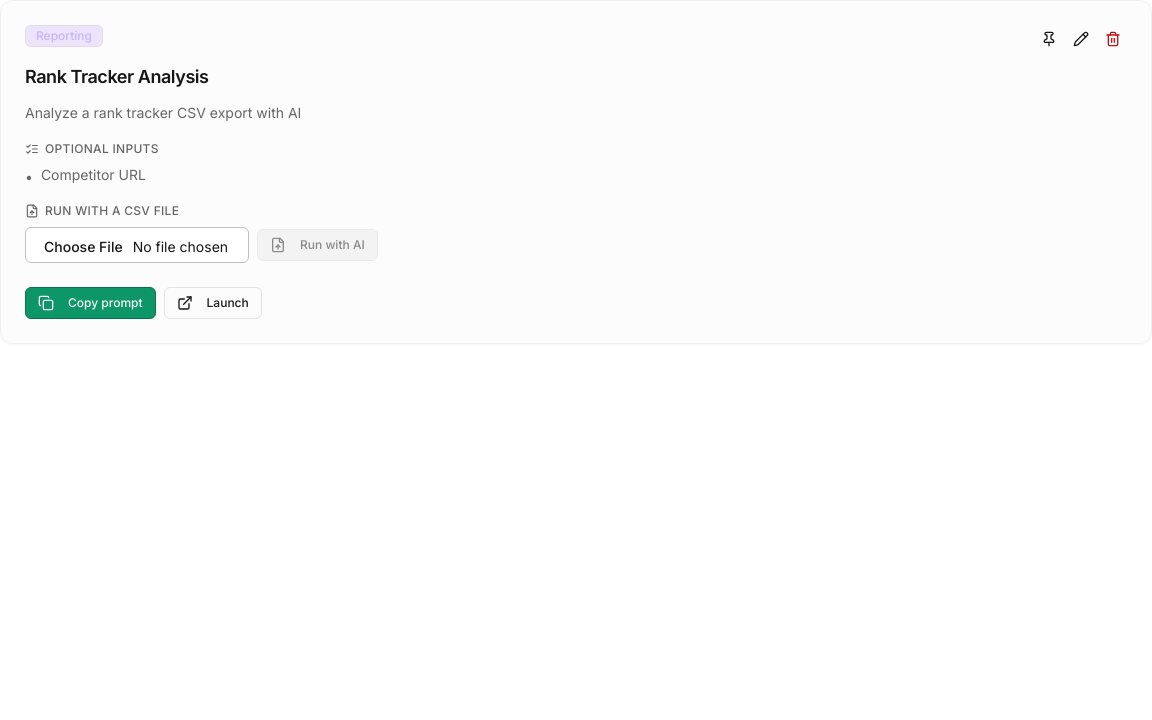
Scenario: WorkflowCard - optional inputs › opens the launch inputs dialog when only optional inputs exist
This screenshot has width=1152, height=720.
Step 1. Click the button with test id "button-launch-7" → (213, 302), box [164,286,262,318]
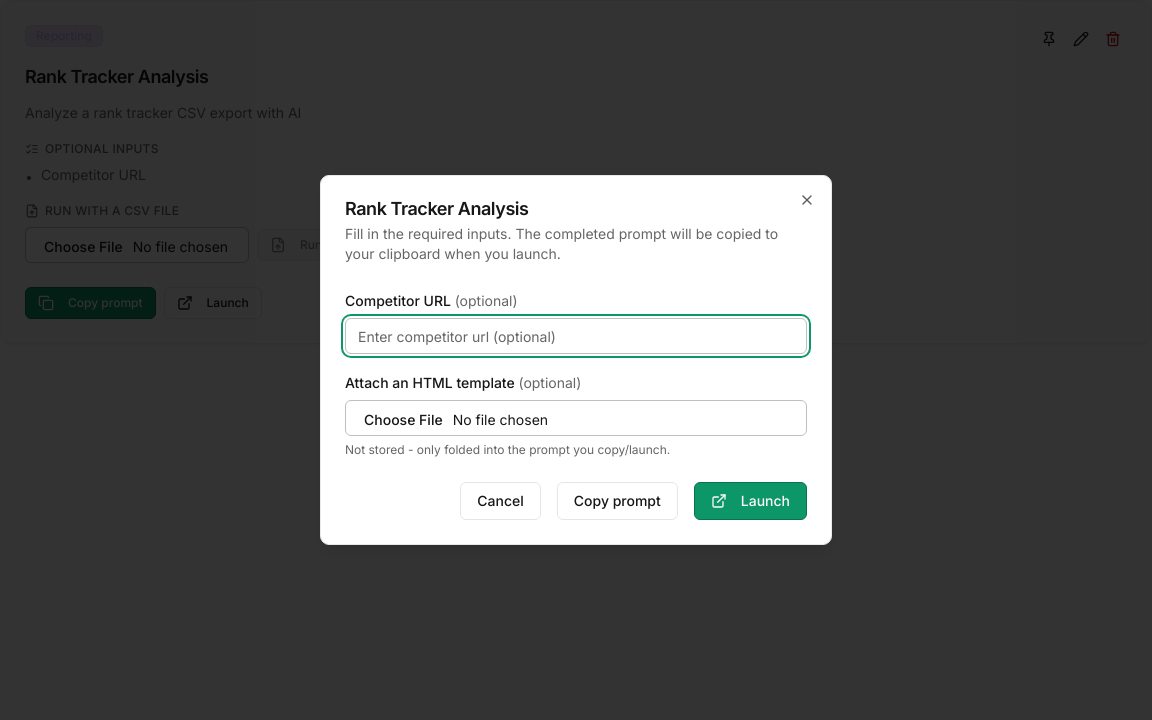
Expected: the button with test id "button-launch-confirm" is shown, [694,482,807,520]
